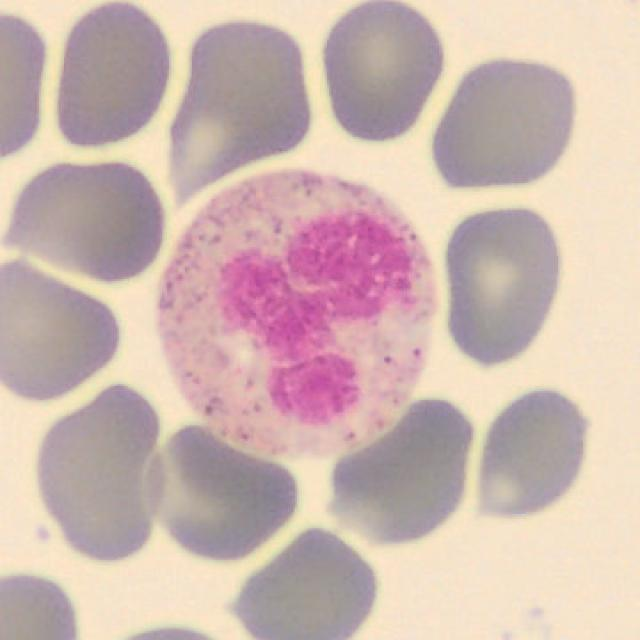Neutrofilo segmentado: (156, 168, 438, 468)
